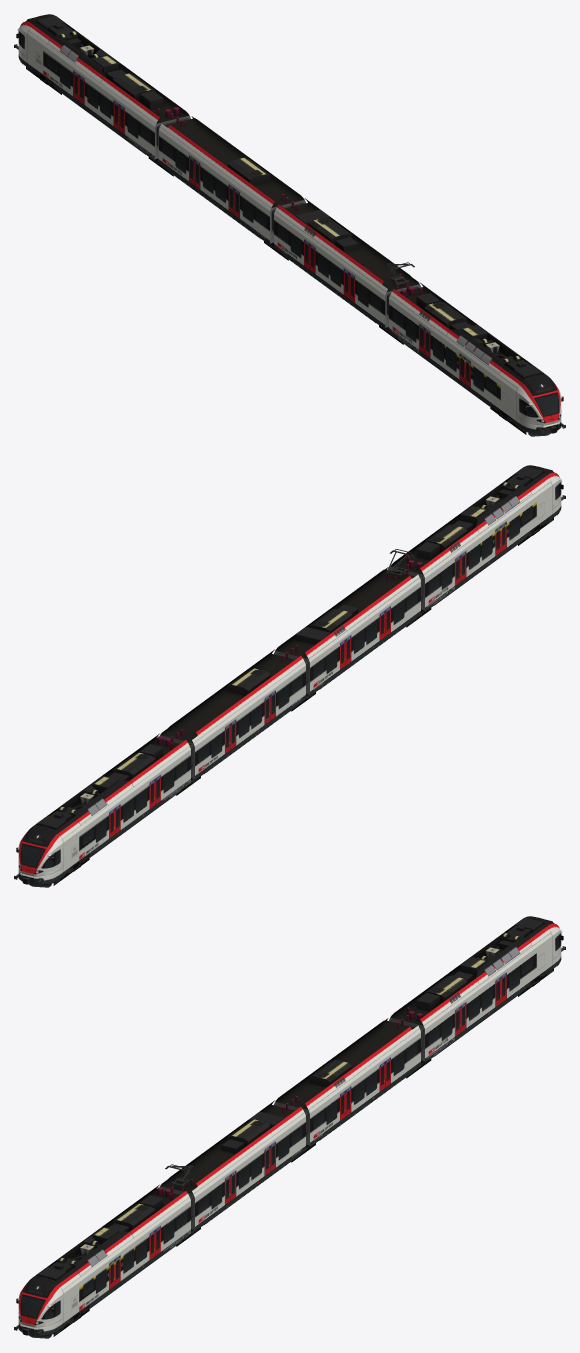
Rendered from FLIRT (SBB RABe523).glb.
3 views of the same model, one above another, from view 1: azimuth 30°, elevation 25°; view 2: azimuth 150°, elevation 25°; view 3: azimuth 330°, elevation 25° (orthographic).
Visible parts, largest first — view 1: 03_body, 00_body, 02_body, 01_body; view 2: 00_body, 03_body, 02_body, 01_body; view 3: 03_body, 00_body, 02_body, 01_body.
Boxes of the visible parts, x1,y1,x2,y2 form: 03_body: (388,282,565,436); 00_body: (14,14,190,167); 02_body: (273,198,421,335); 01_body: (158,116,305,251); 00_body: (14,733,191,887); 03_body: (389,465,565,617); 02_body: (274,549,421,702); 01_body: (160,649,306,786); 03_body: (14,1184,191,1338); 00_body: (389,916,565,1068); 02_body: (160,1100,306,1237); 01_body: (274,1018,421,1153).
Bounding box in the file's own units: 2.92 × 4.88 × 69.73.
4 materials, 4 textured.
